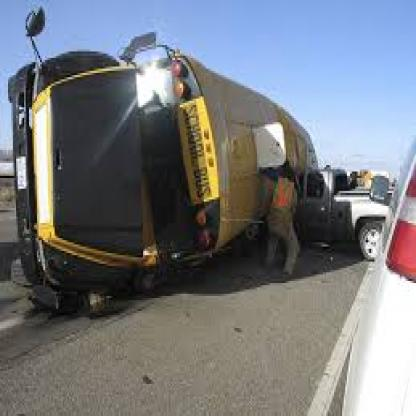accident: (2, 3, 390, 316)
